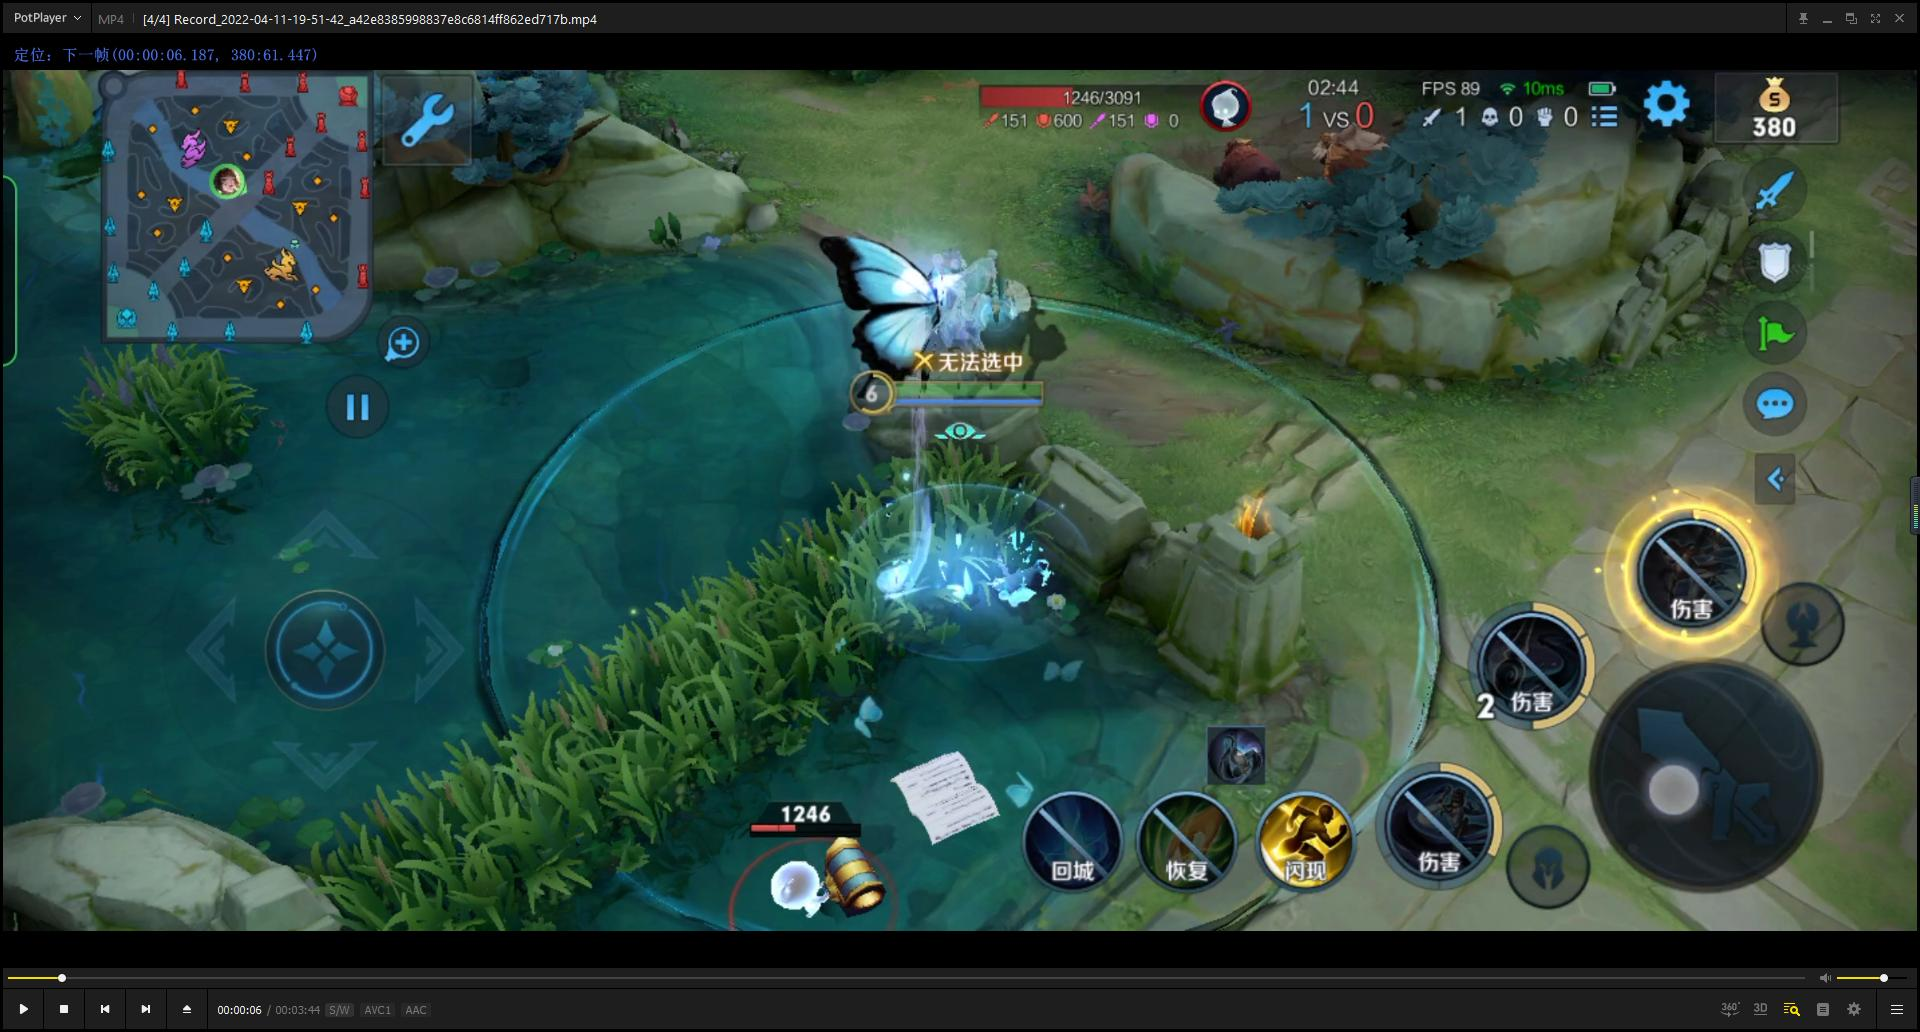Hero: (818, 230, 1086, 643)
Pig: (1286, 112, 1402, 200), (1197, 111, 1280, 208)
Spirit: (698, 794, 909, 928)
